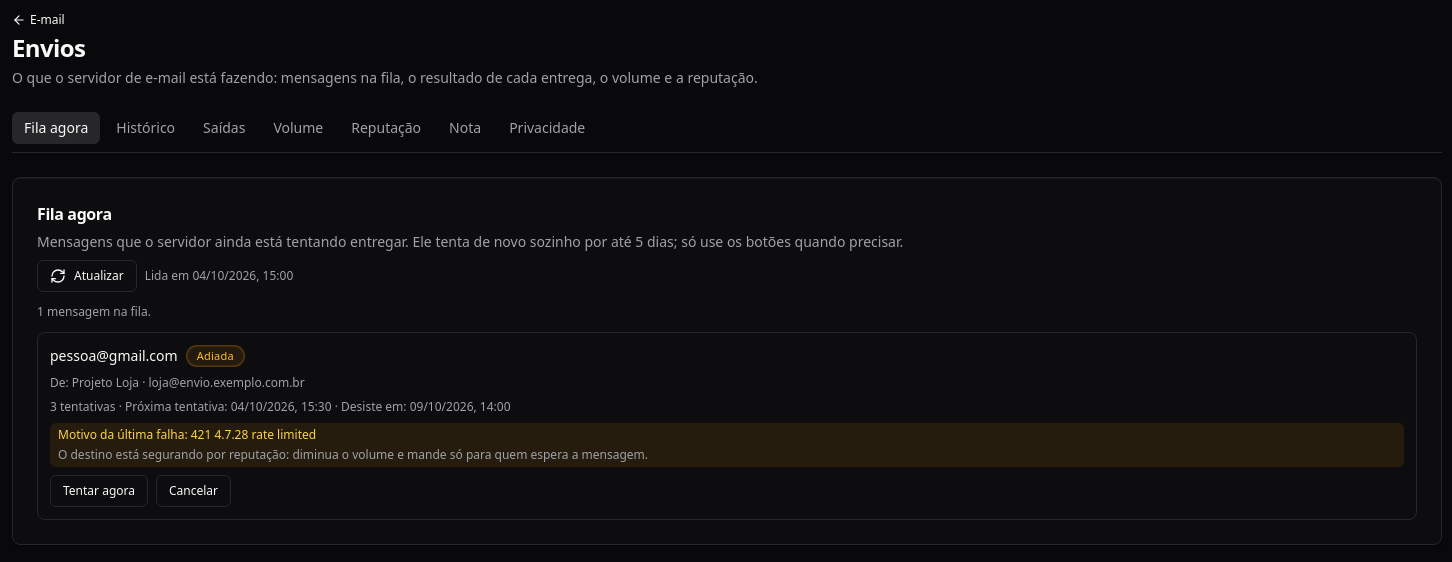
Test: Envios — histórico › aviso quando a leitura do registro falhou e lista vazia
The width and height of the screenshot is (1452, 562).
Click the tab "Histórico" at (146, 128), box [104, 112, 187, 144]
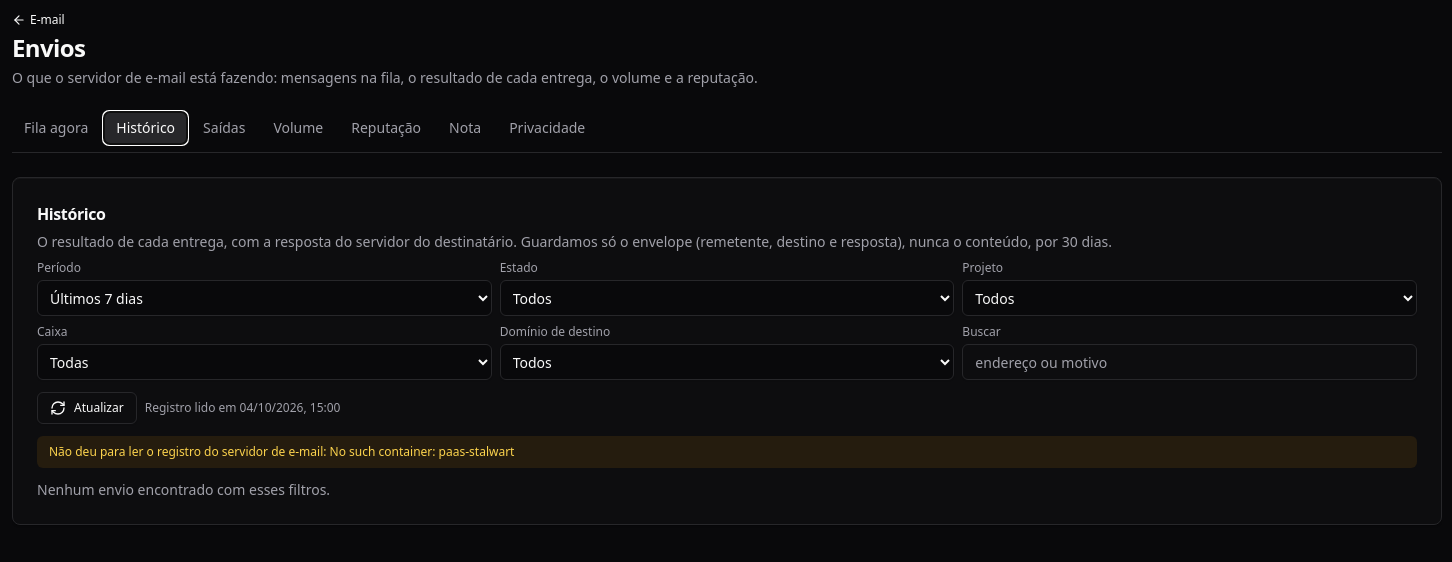
Check: the text "No such container" is shown, box [49, 443, 514, 460]
Check: the text "Nenhum envio encontrado com esses filtros." is shown, box [37, 480, 330, 499]
